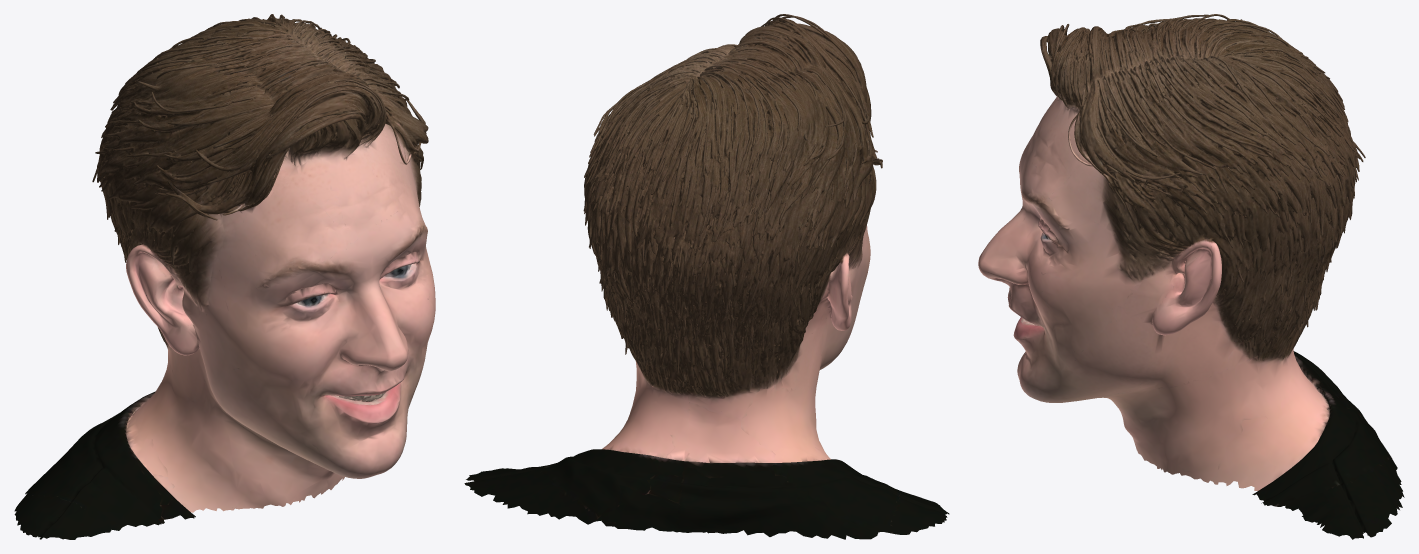
File: zach-bust.glb
3 views of the same model, side by side, from view 1: azimuth 30°, elevation 25°; view 2: azimuth 150°, elevation 25°; view 3: azimuth 270°, elevation 25° (orthographic). The views are drawn at different scales.
Size of the model in its own units: 1.24 by 1.17 by 1.09.
Materials: 1 (1 with a texture image).
